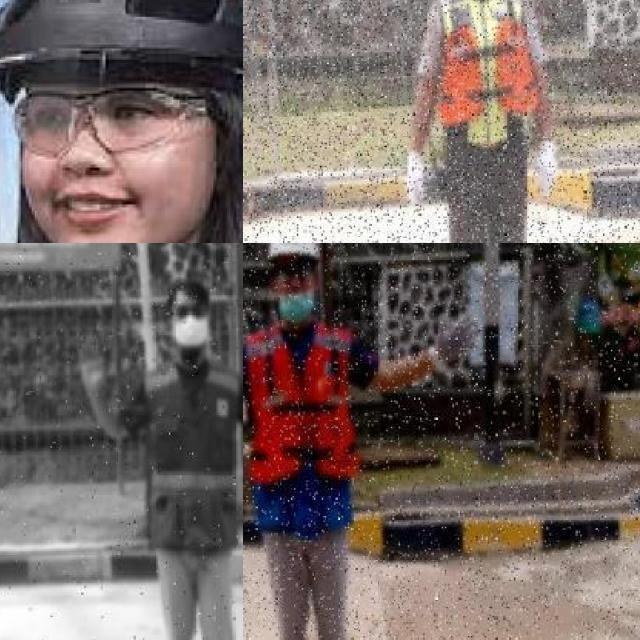apron: (426, 308, 480, 376), (404, 151, 428, 213), (534, 138, 556, 201)
